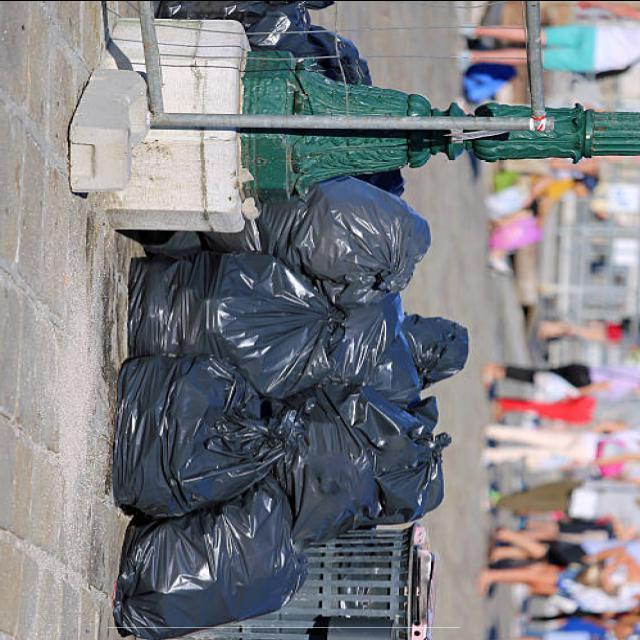Trashbag: (277, 390, 459, 540), (123, 489, 305, 629), (119, 360, 288, 510), (128, 238, 319, 369), (302, 272, 469, 401), (285, 170, 439, 284)
